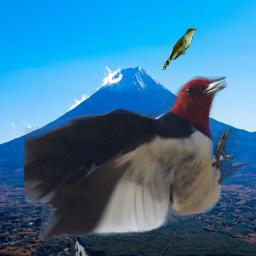Cuckoo: (163, 28, 197, 70)
Woodpecker: (24, 68, 248, 241)
